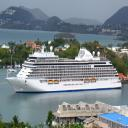cruises: (6, 44, 125, 92)
